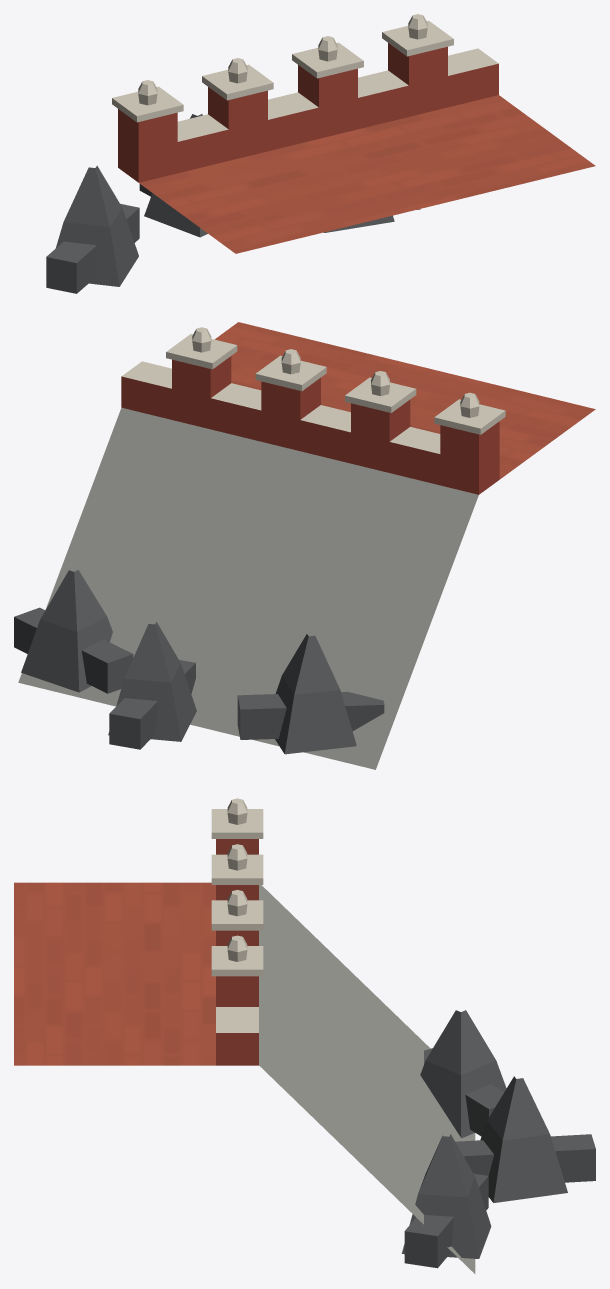
Rendered from seawall.glb.
3 renders of one model, top to bottom at view 1: azimuth 30°, elevation 25°; view 2: azimuth 150°, elevation 25°; view 3: azimuth 270°, elevation 25°, orthographic. The views are drawn at different scales.
Parts seen in each view (by area): view 1: seawall-6m; view 2: seawall-6m; view 3: seawall-6m.
Boxes of the visible parts, x1,y1,x2,y2 form: seawall-6m: (46, 14, 595, 293); seawall-6m: (14, 322, 595, 769); seawall-6m: (14, 798, 595, 1273).
Bounding box in the file's own units: 6.44 × 4.6 × 8.07.
Materials: 1 (1 with a texture image).
